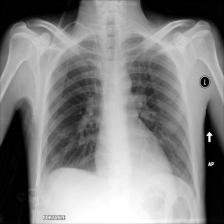normal: (36, 30, 199, 200)
